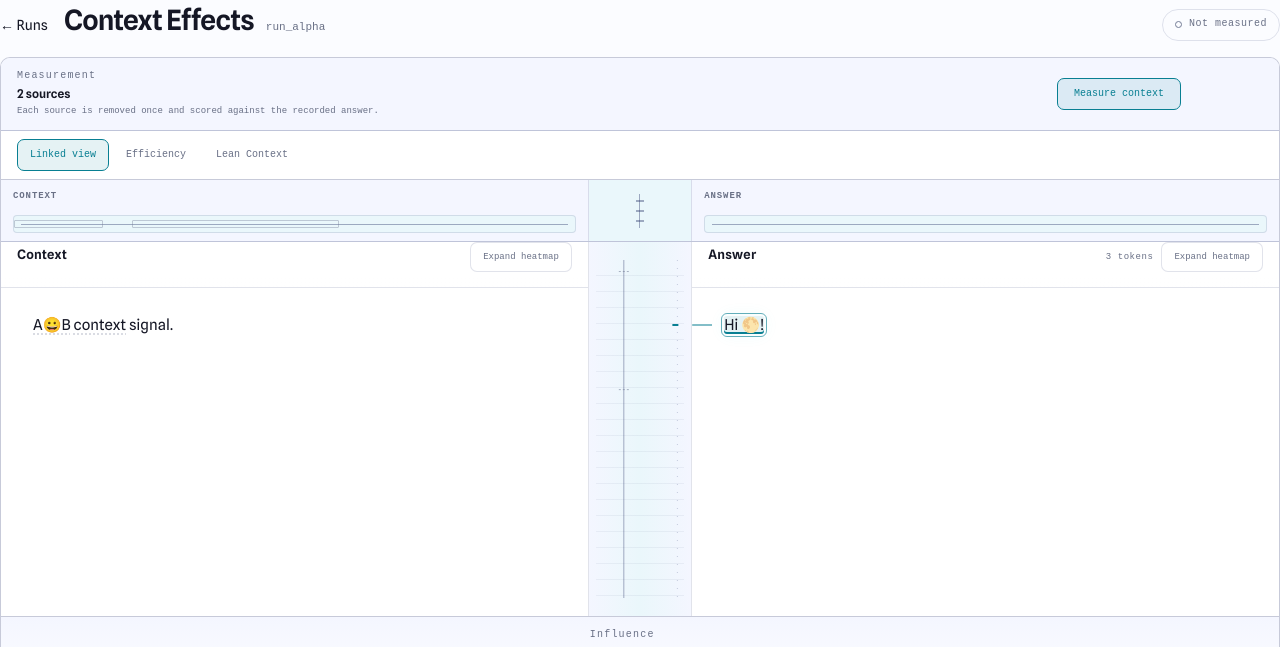
Test: Inspect surface › cancels an active measurement without changing the Inspect coordinate
The image size is (1280, 647).
Click the button "Measure context".
click(1119, 94)  # box [1057,78,1181,110]
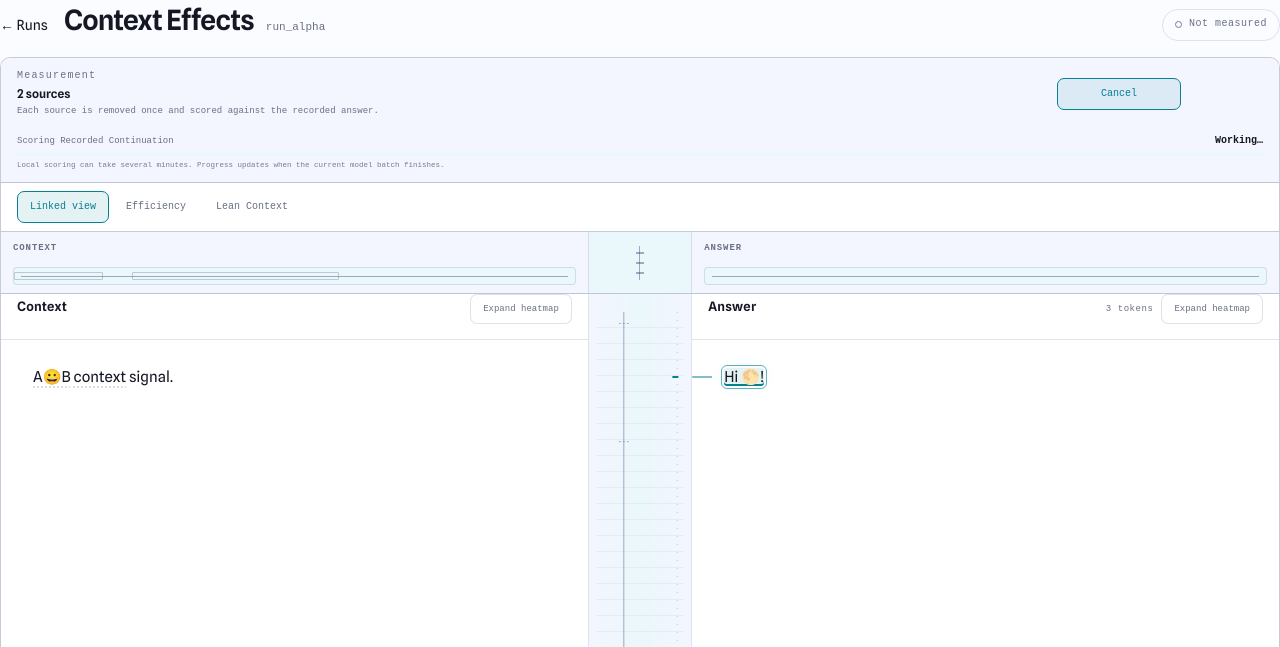
expect the text "Working…" is shown: met, box [1215,134,1263,148]
expect the text "Local scoring can take several minutes. Progress updates when the current model batch finishes." is shown: met, box [17,160,445,168]
Click the button "Cancel".
click(1119, 94)  # box [1057,78,1181,110]
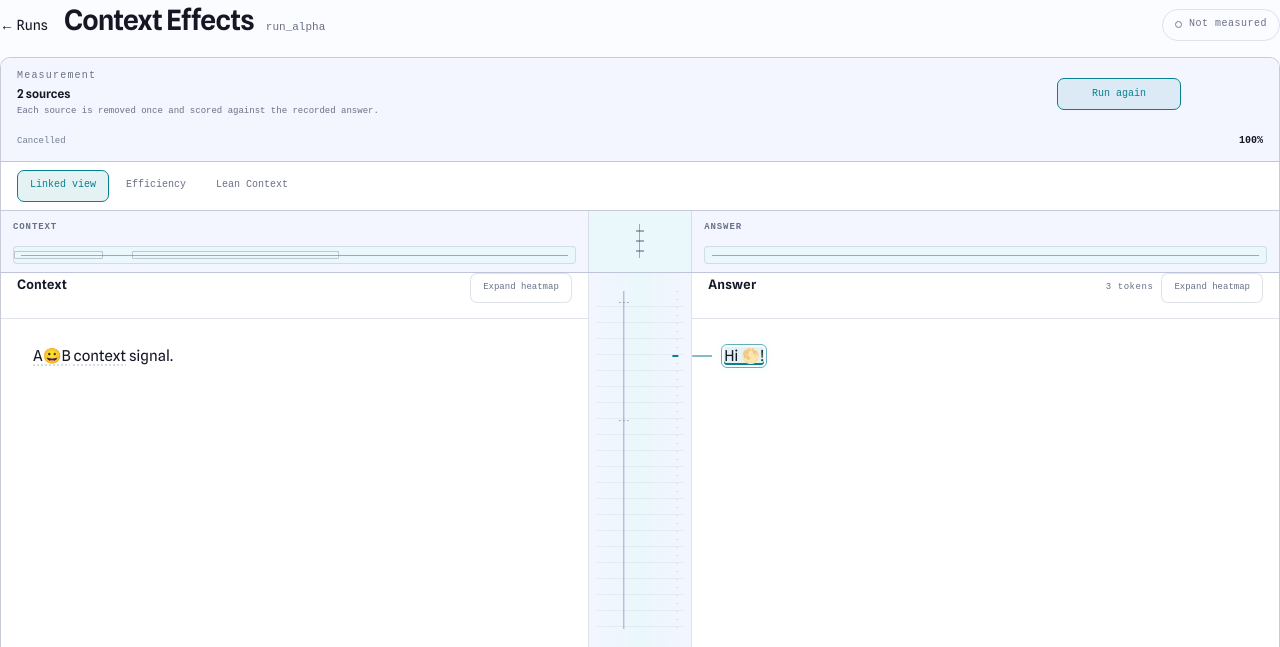
expect the text "Cancelled" is shown: met, box [17,136,66,146]
